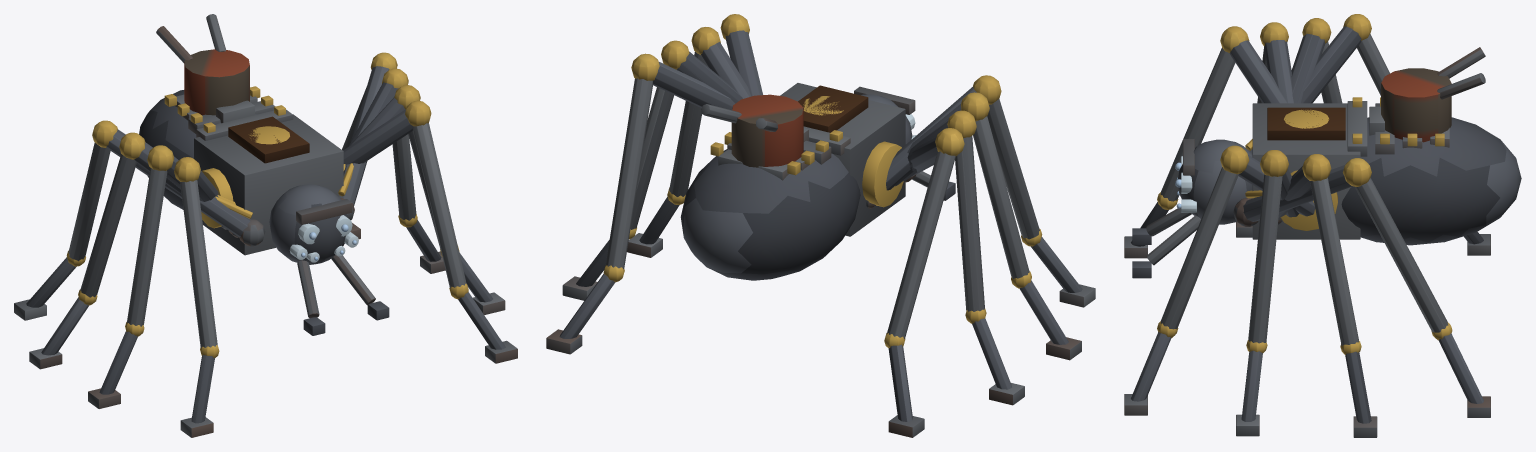
Rendered from unit_university_mechanical_spider.fbx.
3 renders of one model, left to right at view 1: azimuth 30°, elevation 25°; view 2: azimuth 150°, elevation 25°; view 3: azimuth 270°, elevation 25°, orthographic. The views are drawn at different scales.
Parts seen in each view (by area): view 1: unit_university_mechanical_spider; view 2: unit_university_mechanical_spider; view 3: unit_university_mechanical_spider.
Part boxes in pixels (x1,y1,x2,y2): unit_university_mechanical_spider: (14, 14, 517, 437); unit_university_mechanical_spider: (546, 14, 1095, 437); unit_university_mechanical_spider: (1124, 14, 1521, 437).
Size of the model in its own units: 2.58 by 1.52 by 2.03.
